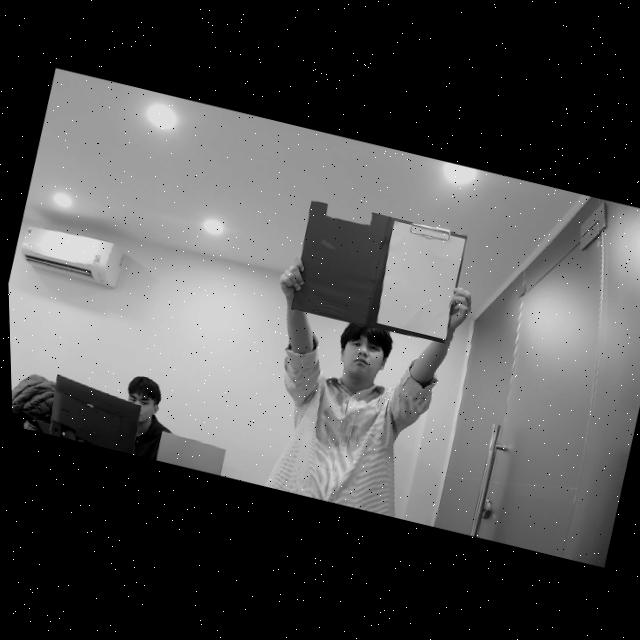face: (338, 331, 388, 385)
